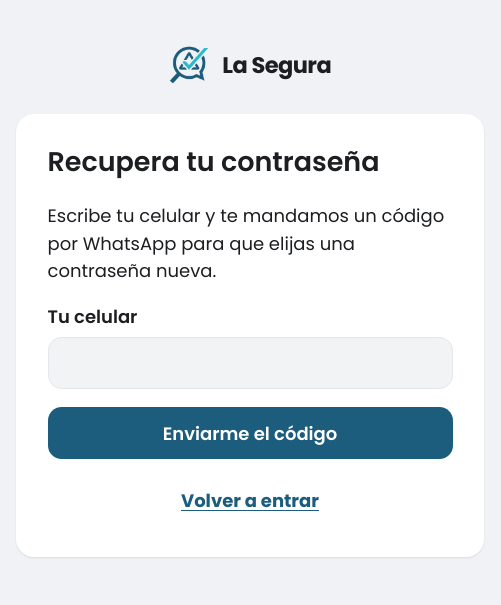
it: Recuperar contraseña › valida el celular antes de pedir el código
This screenshot has width=501, height=605.
Type "12345" into the field labelled "Tu celular" at coordinates (250, 363), box [48,337,452,389]
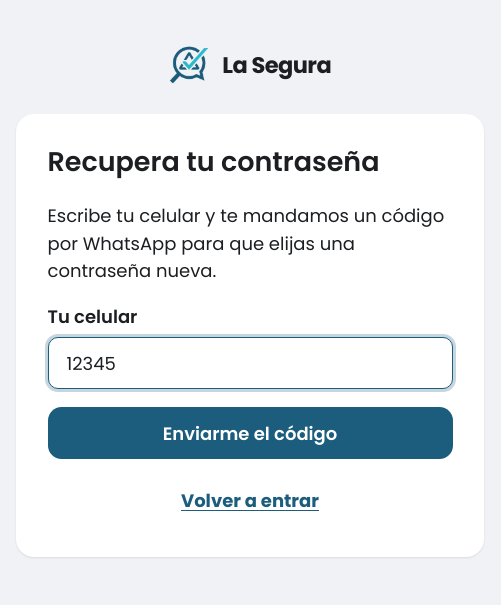
Click the button "Enviarme el código" at coordinates (250, 433), box [48,407,452,459]
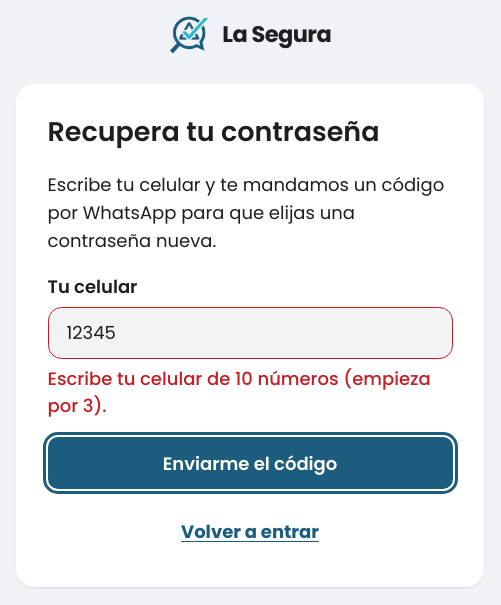
Check: the text "Escribe tu celular de 10 números (empieza por 3)." is shown, box [48,366,452,420]
